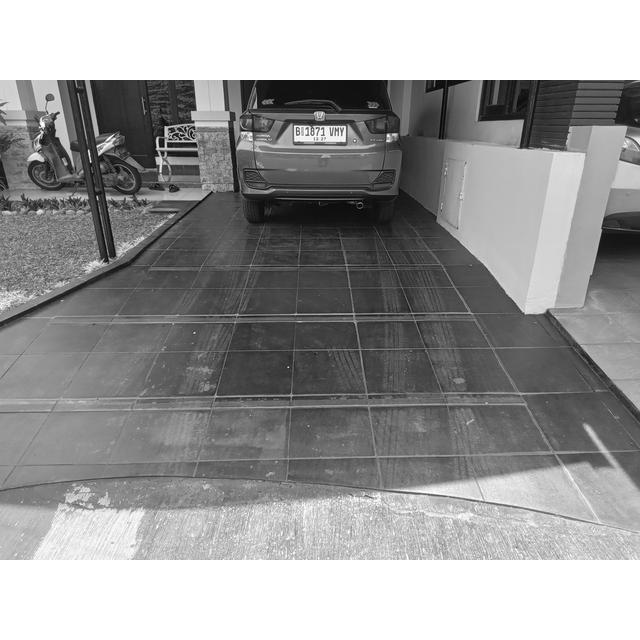license: (295, 126, 346, 141)
